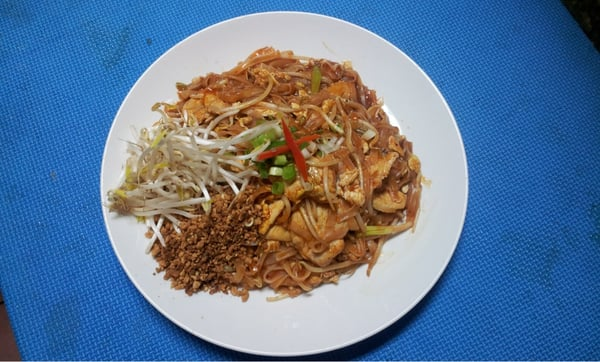curry: (4, 1, 591, 358)
pizza: (280, 117, 309, 182)
